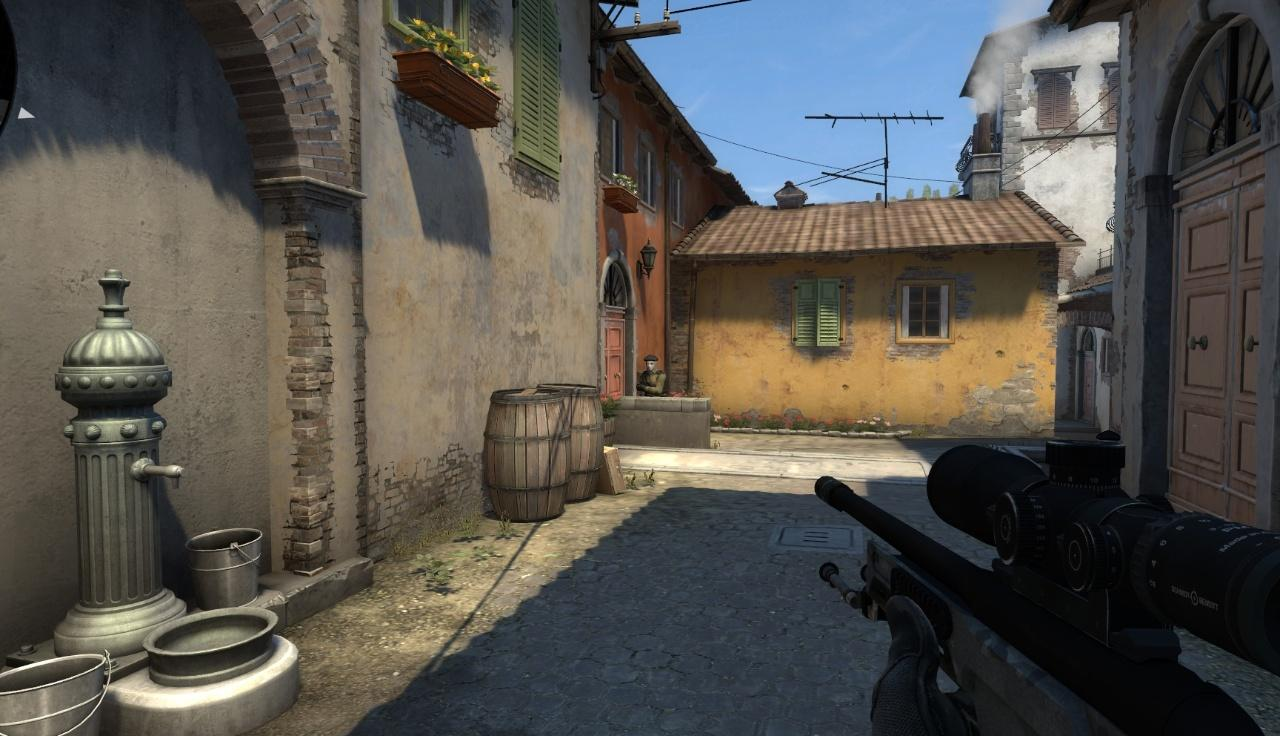sniper: (809, 431, 1280, 736)
tt: (639, 355, 666, 396)
tthead: (644, 356, 657, 372)
